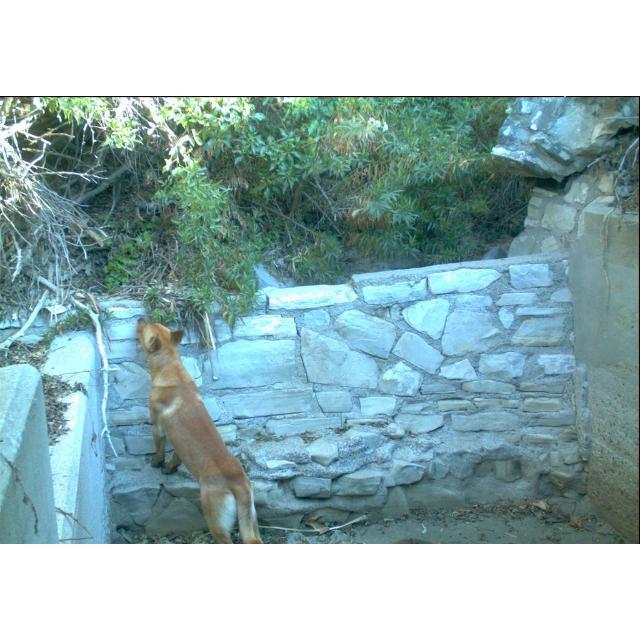animals: (135, 314, 263, 544)
